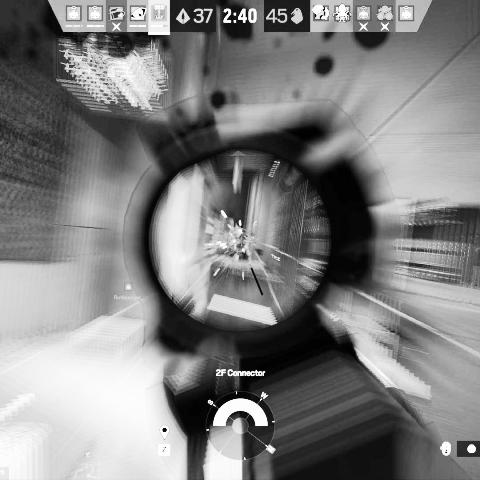Character: (228, 226, 253, 264)
Friend_label: (113, 282, 143, 301), (75, 450, 103, 467)
